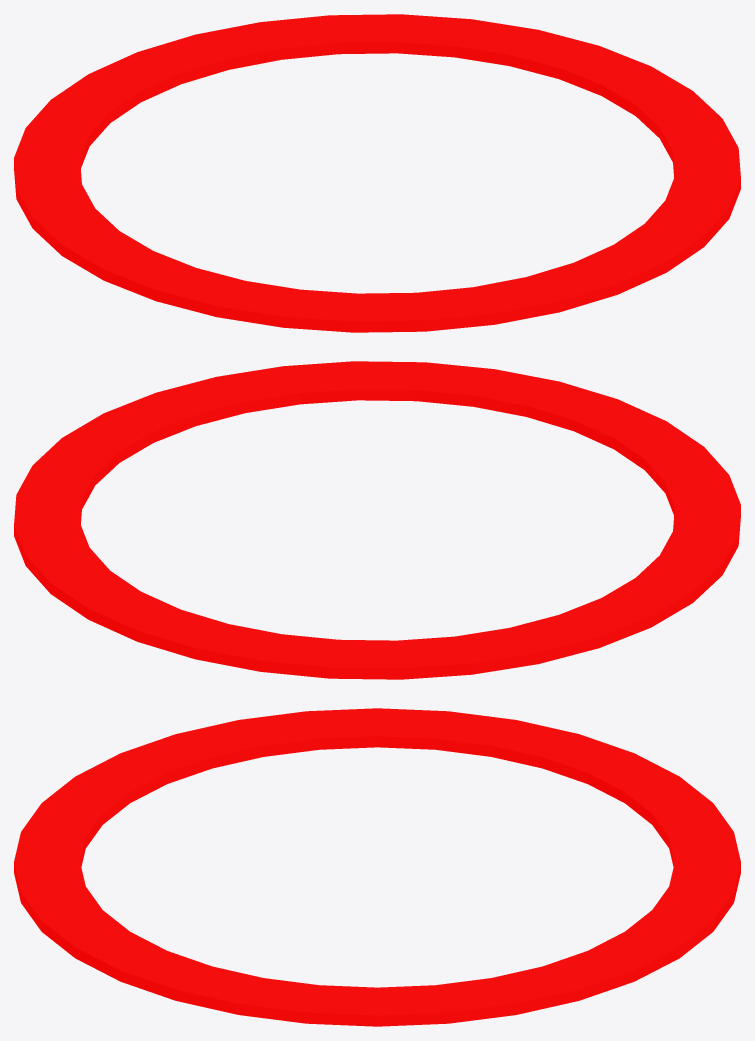
The model's file is chest.glb.
3 renders of one model, top to bottom at view 1: azimuth 30°, elevation 25°; view 2: azimuth 150°, elevation 25°; view 3: azimuth 270°, elevation 25°, orthographic.
Visible parts, largest first — view 1: Circle; view 2: Circle; view 3: Circle.
Part boxes in pixels (x1,y1,x2,y2): Circle: (14, 14, 740, 332); Circle: (14, 361, 740, 679); Circle: (14, 708, 740, 1026).
Size of the model in its own units: 0.4788 by 0.0081 by 0.4788.
